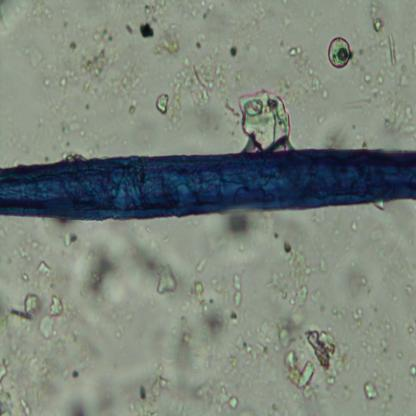Background material: (0, 262, 71, 414), (58, 26, 146, 106), (279, 320, 351, 397), (86, 364, 171, 414), (272, 236, 328, 310), (162, 303, 224, 369), (126, 236, 184, 304), (171, 55, 225, 121), (238, 91, 294, 151), (74, 245, 122, 306), (282, 43, 329, 98), (346, 308, 390, 355), (338, 258, 381, 302), (0, 0, 54, 33), (195, 378, 242, 414), (52, 110, 92, 152), (21, 48, 59, 89), (4, 229, 52, 259), (381, 101, 416, 138), (160, 16, 187, 61), (220, 211, 260, 240), (136, 5, 160, 43), (326, 35, 352, 69), (359, 67, 386, 96), (193, 253, 208, 304), (376, 368, 396, 403), (186, 0, 216, 22), (230, 274, 245, 310), (368, 4, 385, 32), (61, 229, 80, 253), (360, 378, 379, 402), (221, 44, 240, 63), (387, 30, 397, 66), (279, 13, 294, 31), (156, 95, 169, 114), (314, 110, 325, 129), (407, 365, 416, 385), (349, 217, 358, 231), (404, 325, 414, 336)
Cotton: (0, 143, 416, 221)
